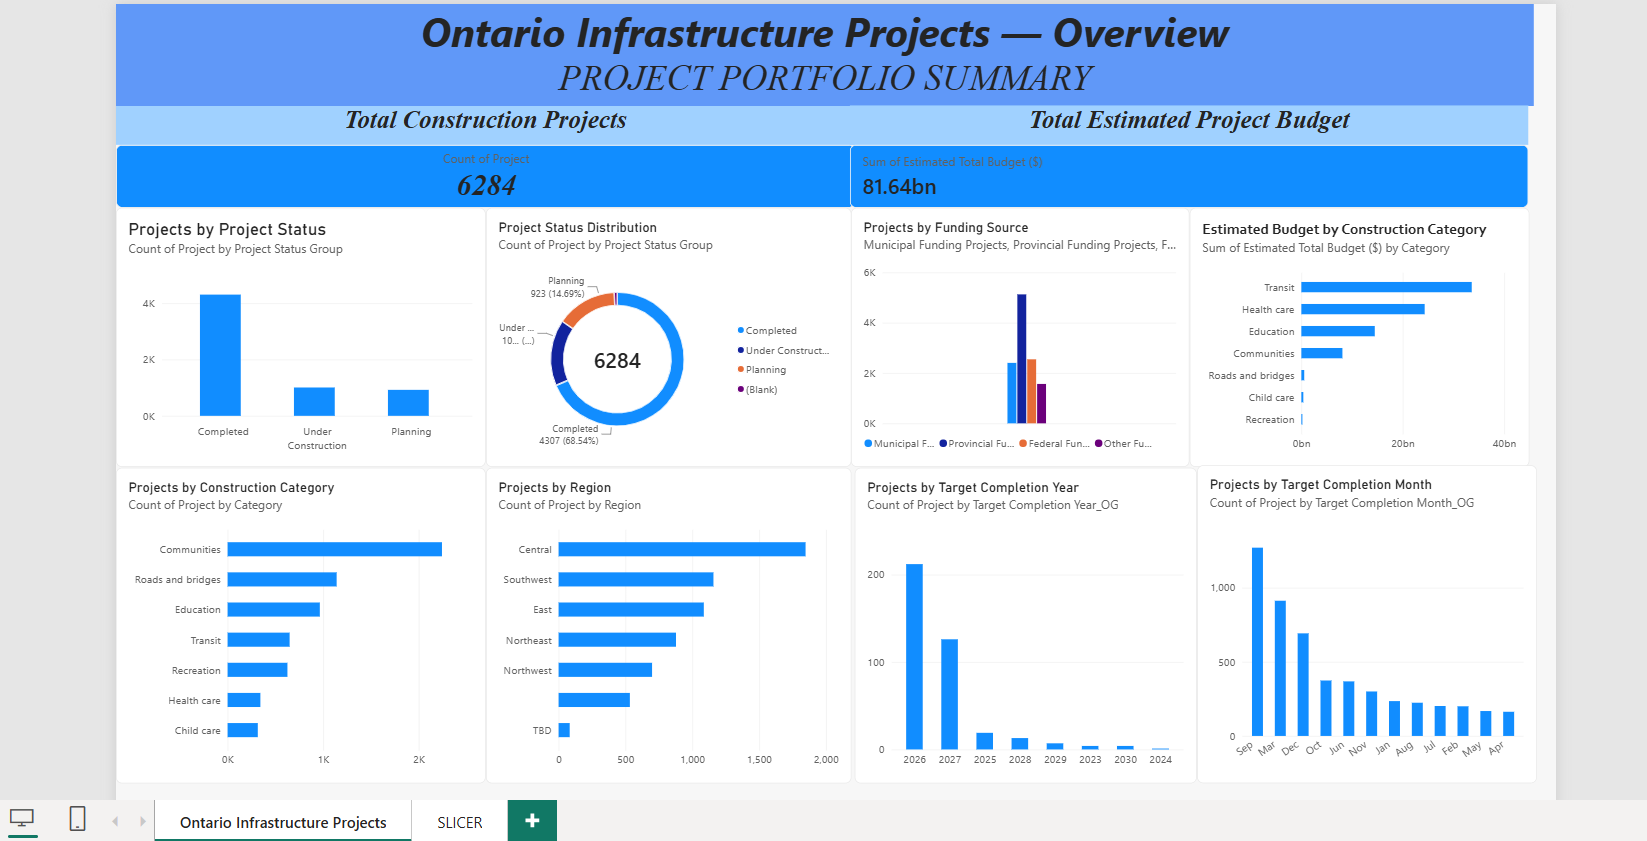

The dashboard page shown, as its layout file describes it:
{"tool":"powerbi","page":{"name":"Ontario Infrastructure Projects ","canvas":[1920,1080],"ordinal":0},"visuals":[{"type":"cardVisual","title":"Total Construction Projects","fields":{"Data":["CountNonNull(ontbuilds-all-20260914.Project)"]},"box":[0,135.3,985.2,136.9],"z":0},{"type":"donutChart","title":"Project Status Distribution","fields":{"Category":["ontbuilds-all-20260914.Project Status Group"],"Y":["CountNonNull(ontbuilds-all-20260914.Project)"]},"box":[492.6,272.2,487.6,345.6],"z":1},{"type":"clusteredColumnChart","title":"Projects by Project Status","fields":{"Category":["ontbuilds-all-20260914.Project Status Group"],"Y":["CountNonNull(ontbuilds-all-20260914.Project)"]},"box":[0,272.2,492.6,345.6],"z":2},{"type":"clusteredBarChart","title":"Projects by Construction Category","fields":{"Category":["ontbuilds-all-20260914.Category"],"Y":["CountNonNull(ontbuilds-all-20260914.Project)"]},"box":[0,617.8,492.6,420.8],"z":3},{"type":"textbox","box":[0,0,1890,136],"z":7},{"type":"clusteredBarChart","title":"Projects by Region","fields":{"Category":["ontbuilds-all-20260914.Region"],"Y":["CountNonNull(ontbuilds-all-20260914.Project)"]},"box":[492.6,617.8,487.6,420.8],"z":8},{"type":"clusteredBarChart","title":"Estimated Budget by Construction Category","fields":{"Category":["ontbuilds-all-20260914.Category"],"Y":["Sum(ontbuilds-all-20260914.Estimated Total Budget ($))"]},"box":[1431,272.2,452.5,345.6],"z":9},{"type":"clusteredColumnChart","title":"Projects by Funding Source","fields":{"Y":["ontbuilds-all-20260914.Municipal Funding Projects","ontbuilds-all-20260914.Provincial Funding Projects","ontbuilds-all-20260914.Federal Funding Projects","ontbuilds-all-20260914.Other Funding Projects"]},"box":[980.2,272.2,450.8,345.6],"z":10},{"type":"clusteredColumnChart","title":"Projects by Target Completion Year","fields":{"Category":["ontbuilds-all-20260914.Target Completion Year_OG"],"Y":["CountNonNull(ontbuilds-all-20260914.Project)"]},"box":[985.2,617.8,455.8,420.8],"z":11},{"type":"clusteredColumnChart","title":"Projects by Target Completion Month","fields":{"Category":["ontbuilds-all-20260914.Target Completion Month_OG"],"Y":["CountNonNull(ontbuilds-all-20260914.Project)"]},"box":[1441,614.5,452.5,424.1],"z":12},{"type":"cardVisual","title":"Total Estimated Project Budget","fields":{"Data":["Sum(ontbuilds-all-20260914.Estimated Total Budget ($))"]},"box":[978.5,135.3,905,136.9],"z":13}]}

Visuals, with their boxes on the page's 1920x1080 design canvas (x1, y1, x2, y2). These are canvas units, not pixel positions in the 1647x841 screenshot, which may show the page scaled, cropped or inside an application window:
"Total Construction Projects" cardVisual: <box>0,135,985,272</box>
"Project Status Distribution" donutChart: <box>493,272,980,618</box>
"Projects by Project Status" clusteredColumnChart: <box>0,272,493,618</box>
"Projects by Construction Category" clusteredBarChart: <box>0,618,493,1039</box>
textbox: <box>0,0,1890,136</box>
"Projects by Region" clusteredBarChart: <box>493,618,980,1039</box>
"Estimated Budget by Construction Category" clusteredBarChart: <box>1431,272,1884,618</box>
"Projects by Funding Source" clusteredColumnChart: <box>980,272,1431,618</box>
"Projects by Target Completion Year" clusteredColumnChart: <box>985,618,1441,1039</box>
"Projects by Target Completion Month" clusteredColumnChart: <box>1441,614,1894,1039</box>
"Total Estimated Project Budget" cardVisual: <box>978,135,1884,272</box>
